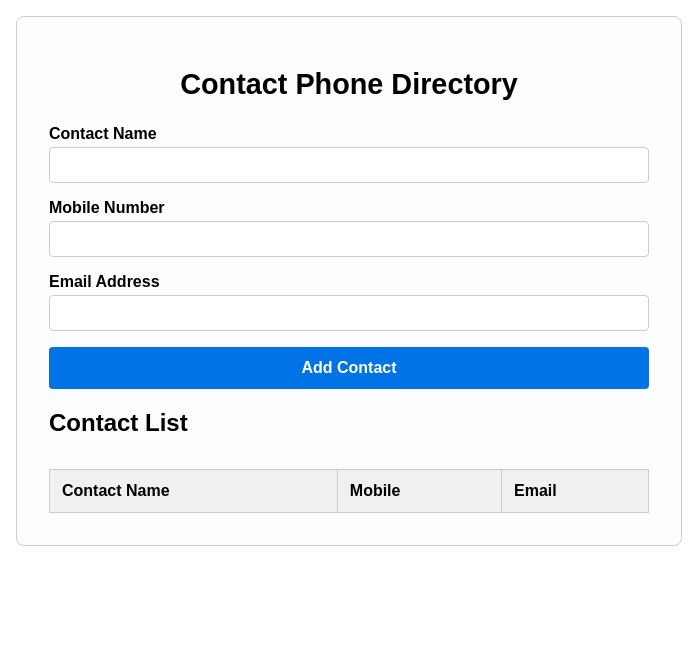
Test: ContactDirectory › adds multiple contacts in order
This screenshot has width=699, height=649.
Type "Gabriel" into the field with test id "name" at (349, 165), box [49, 147, 649, 183]
Type "1111111111" into the field with test id "mobile" at (349, 239), box [49, 221, 649, 257]
Type "gabriel@example.com" into the field with test id "email" at (349, 313), box [49, 295, 649, 331]
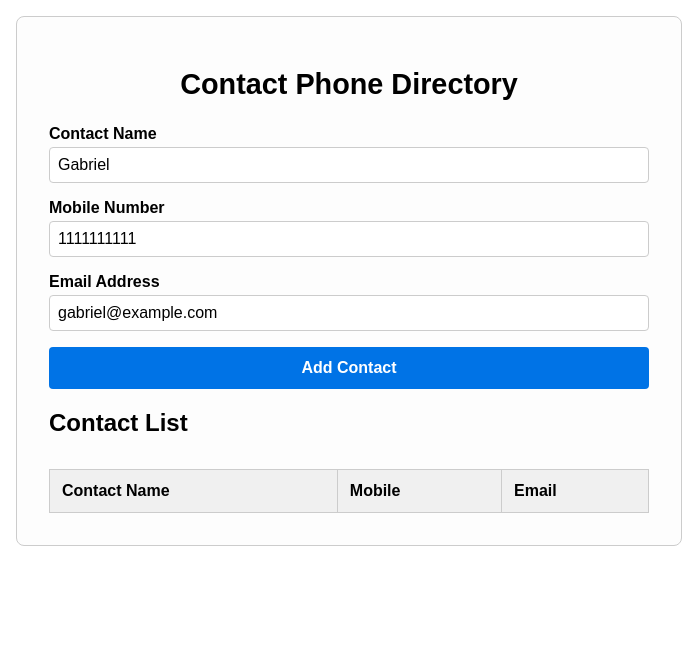
Click the button with test id "submit" at (349, 368), box [49, 347, 649, 389]
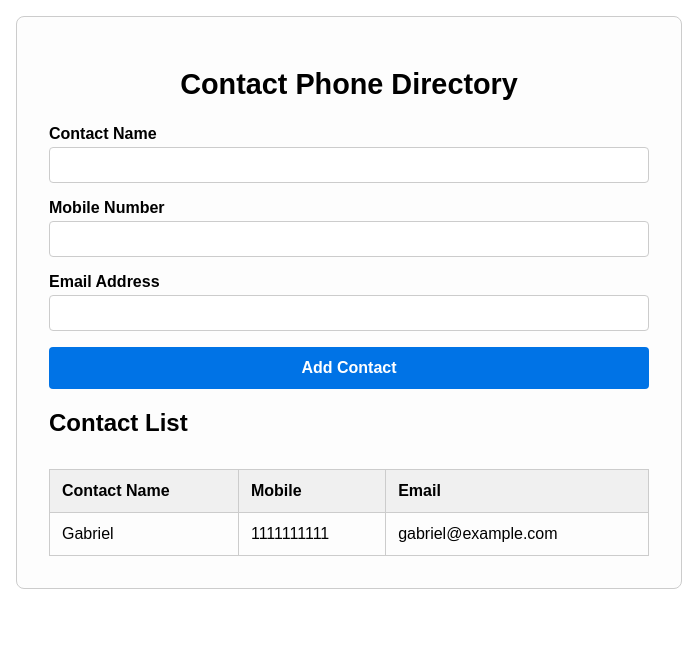
Type "Fernanda" into the field with test id "name" at (349, 165), box [49, 147, 649, 183]
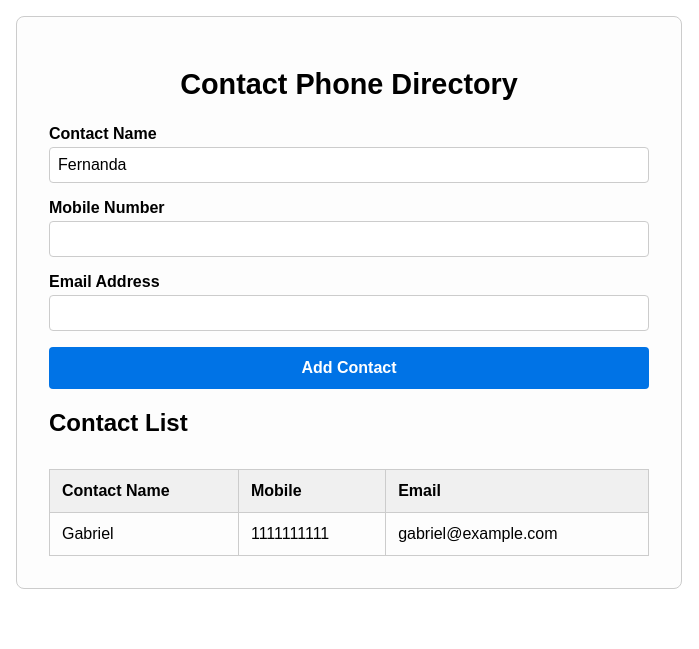
Type "2222222222" into the field with test id "mobile" at (349, 239), box [49, 221, 649, 257]
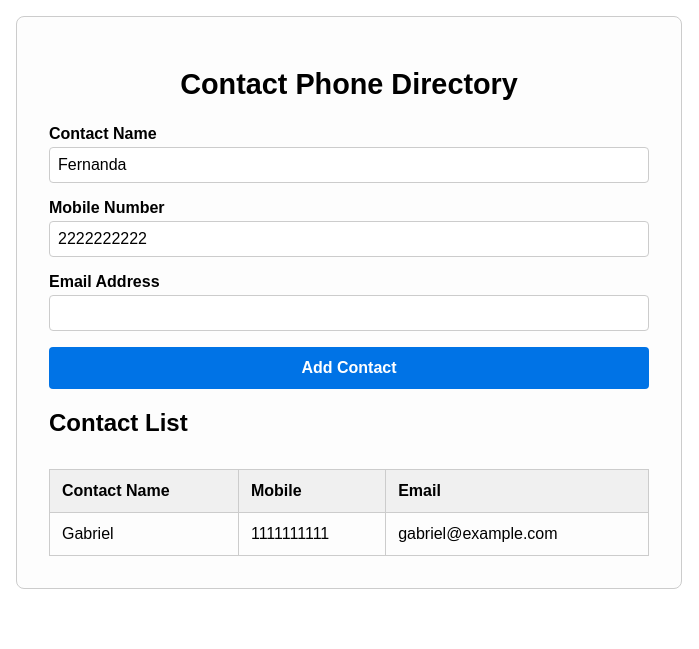
Type "fernanda@example.com" into the field with test id "email" at (349, 313), box [49, 295, 649, 331]
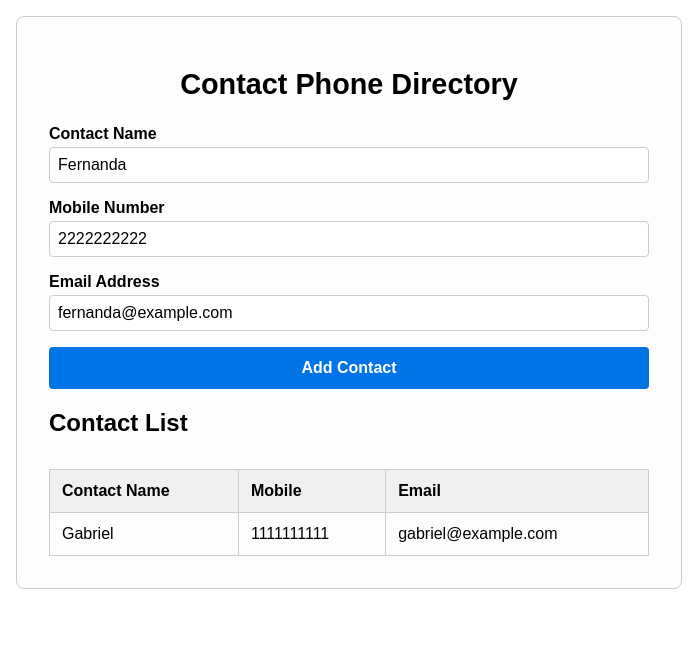
Click the button with test id "submit" at (349, 368), box [49, 347, 649, 389]
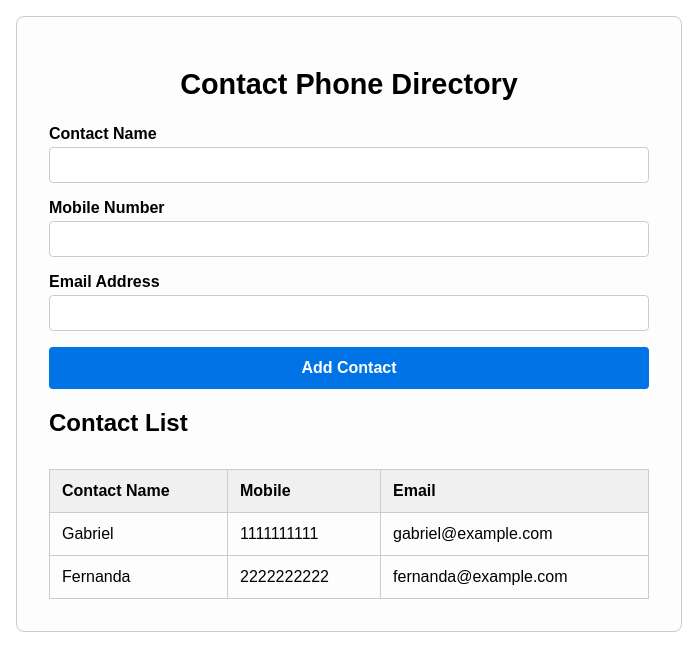
Check: the row "Gabriel 1111111111 gabriel@example.com" is shown, box [50, 513, 648, 556]
Check: the row "Fernanda 2222222222 fernanda@example.com" is shown, box [50, 556, 648, 599]
